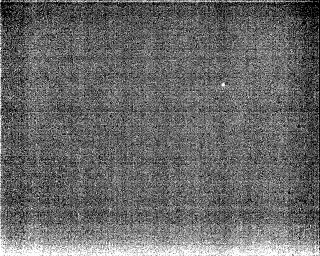BIRD: (219, 80, 227, 91)
